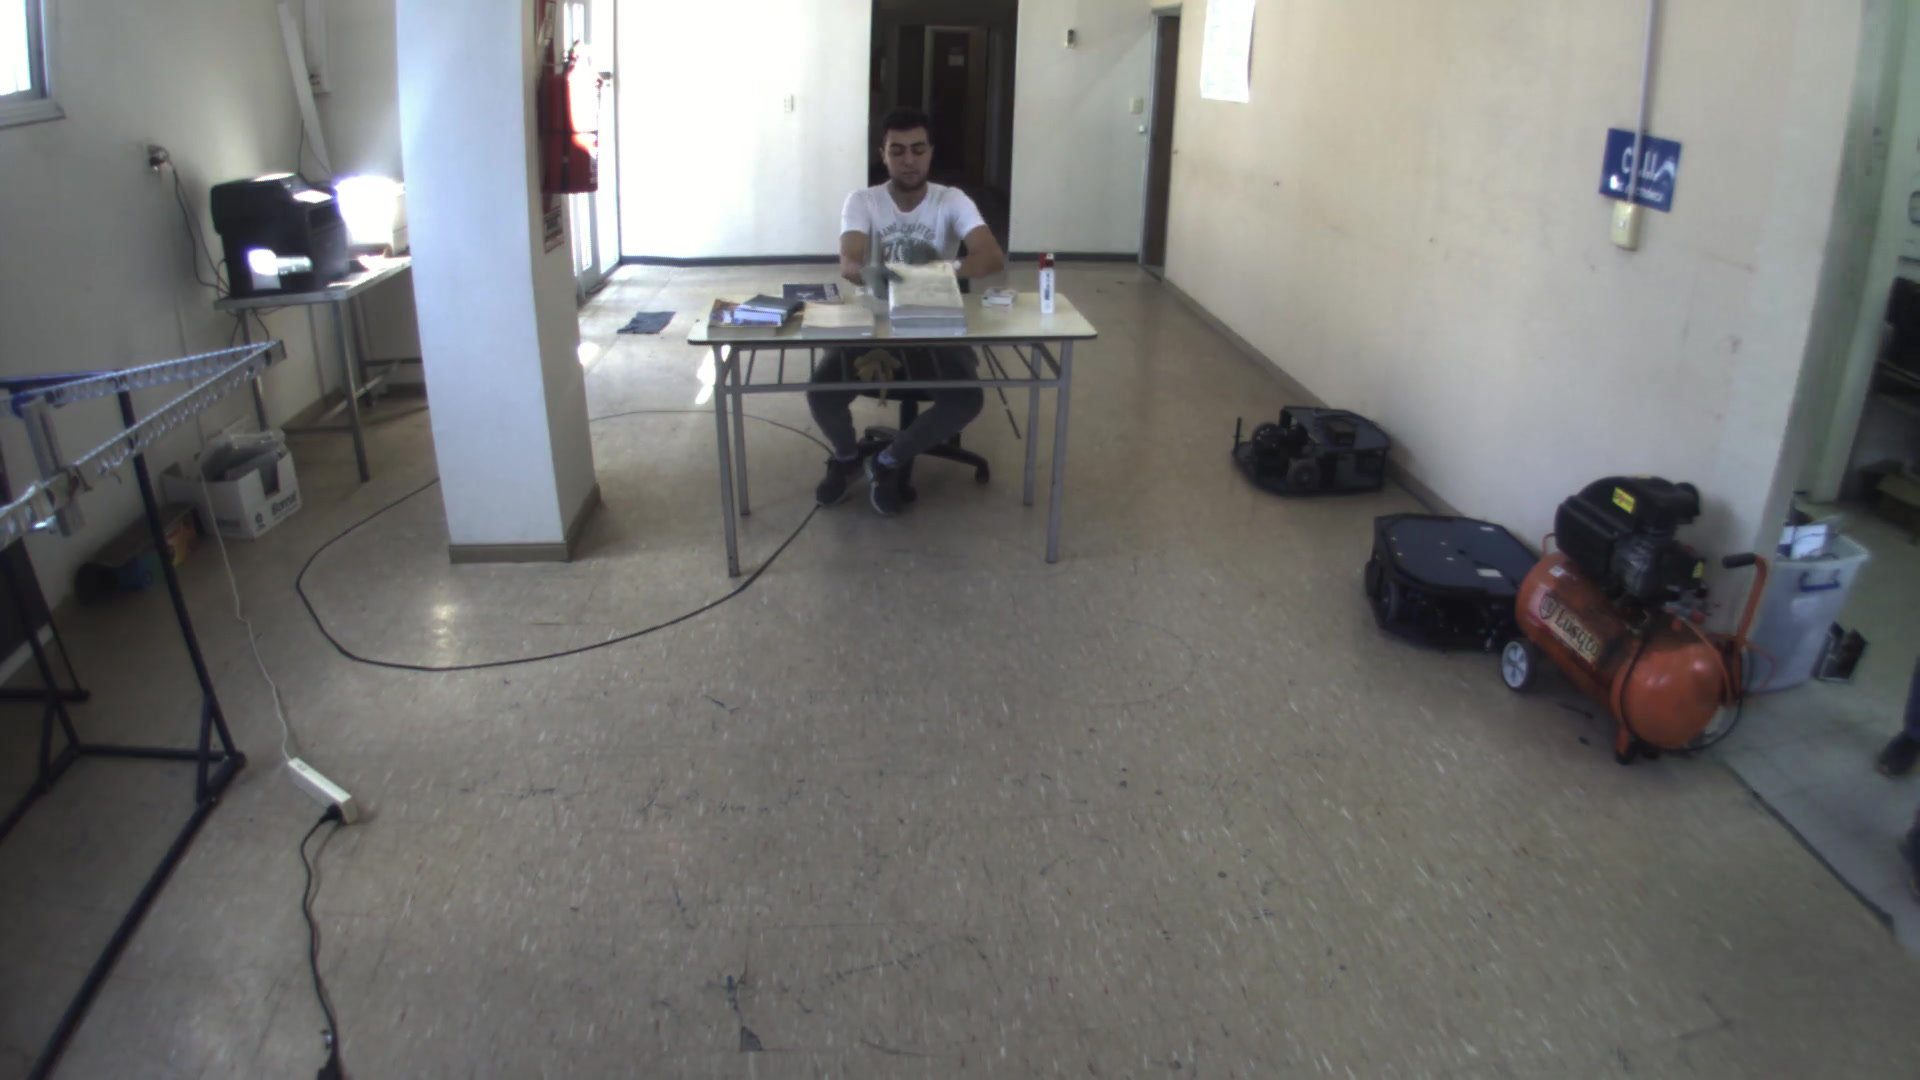hand: (856, 257, 905, 298), (902, 243, 944, 265)
